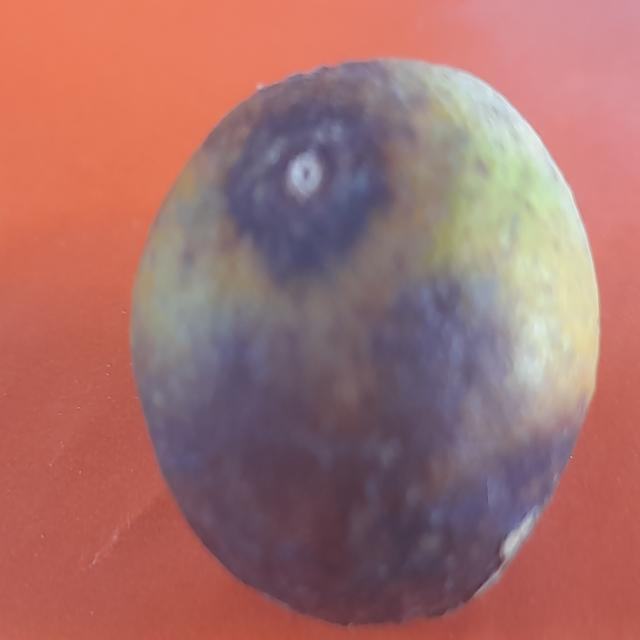black spot: (124, 38, 604, 617)
